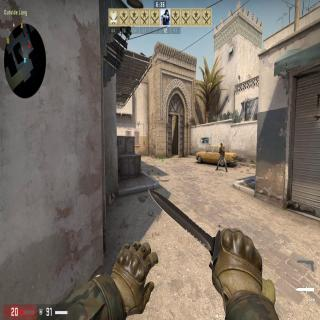T-Body: (216, 143, 228, 172)
T-Head: (220, 143, 222, 148)
